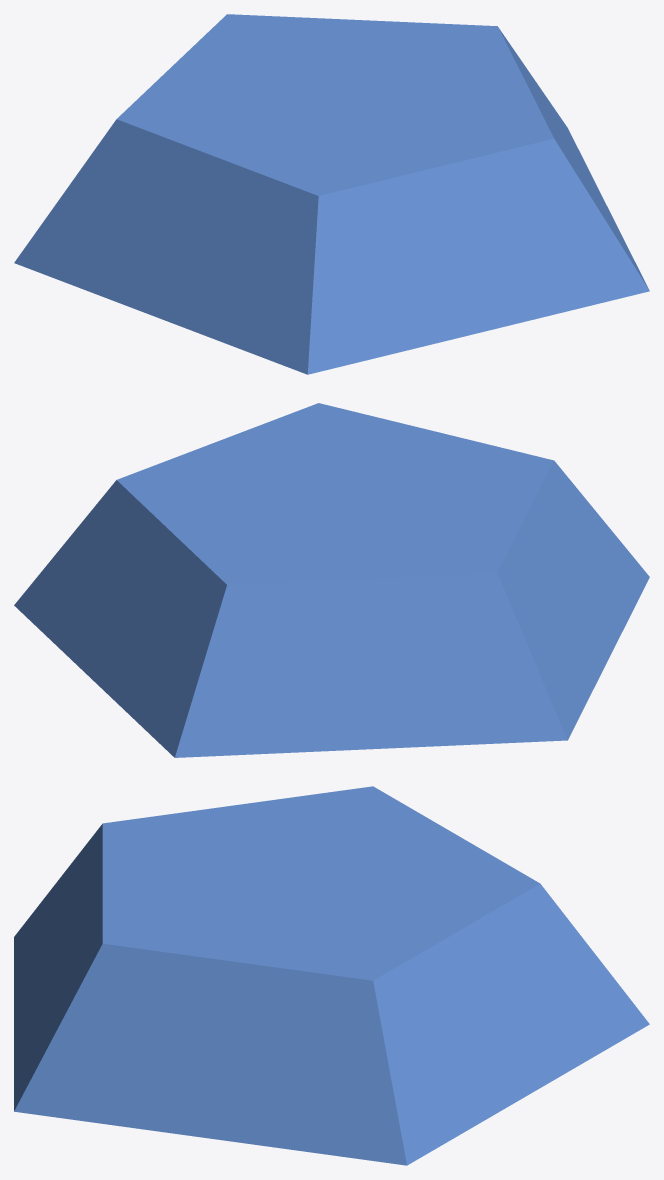
File: rock.glb
3 renders of one model, top to bottom at view 1: azimuth 30°, elevation 25°; view 2: azimuth 150°, elevation 25°; view 3: azimuth 270°, elevation 25°, orthographic. The views are drawn at different scales.
Parts seen in each view (by area): view 1: rock_single_A; view 2: rock_single_A; view 3: rock_single_A.
Part boxes in pixels (x1,y1,x2,y2): rock_single_A: [14, 14, 649, 374]; rock_single_A: [14, 403, 649, 757]; rock_single_A: [14, 786, 649, 1165].
Size of the model in its own units: 0.2982 by 0.0693 by 0.2836.
Materials: 1 (1 with a texture image).
